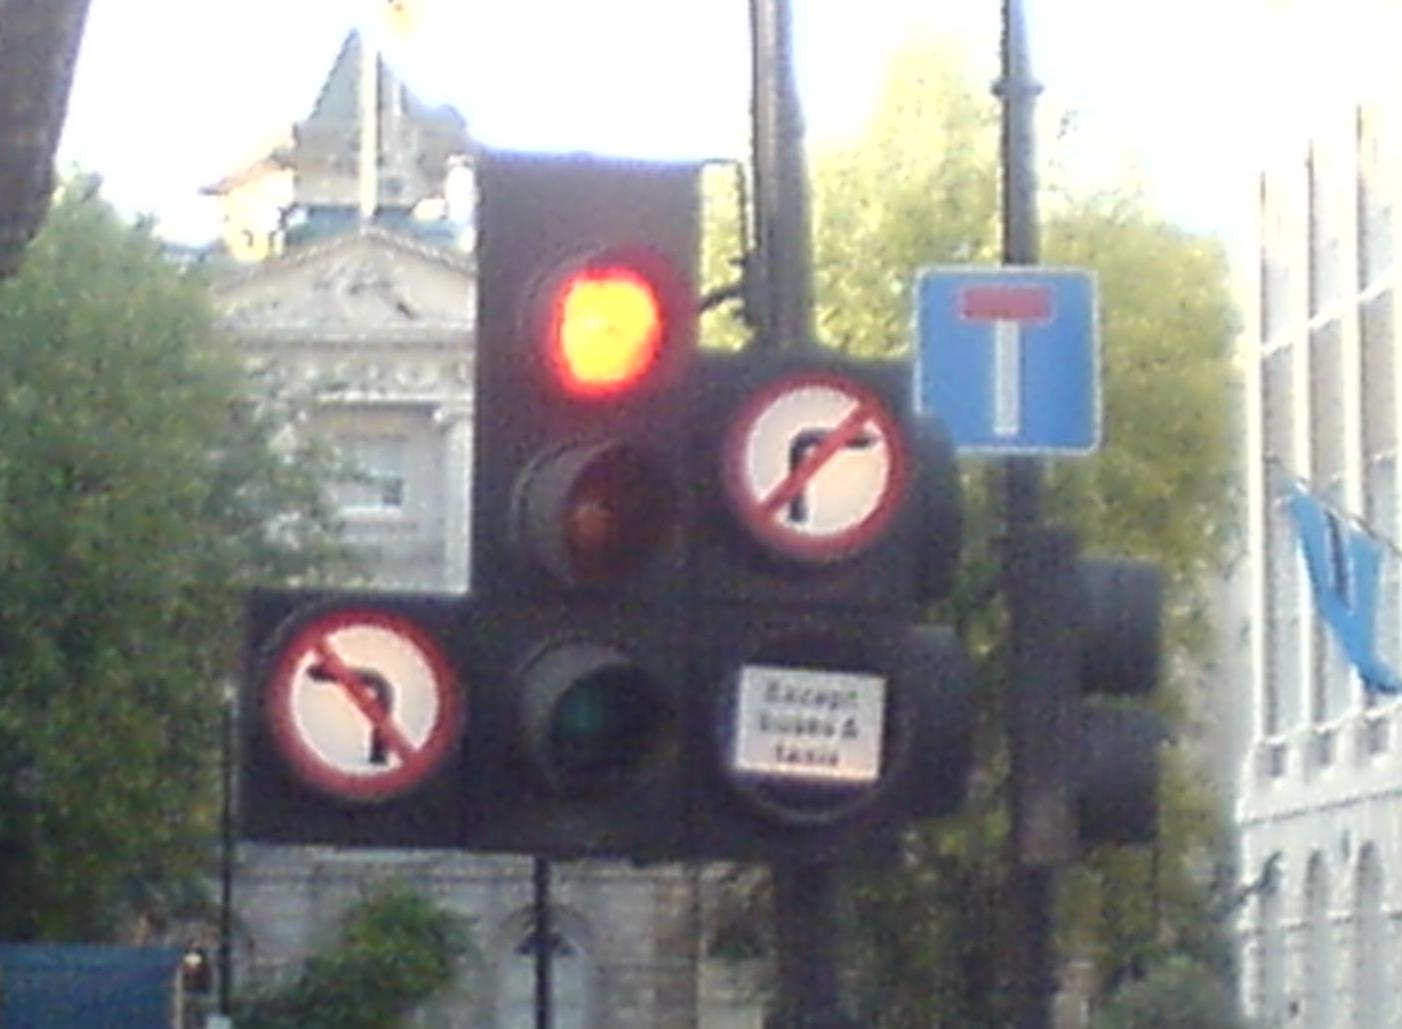No_left_turn: (266, 608, 464, 803)
No_right_turn: (722, 372, 908, 561)
